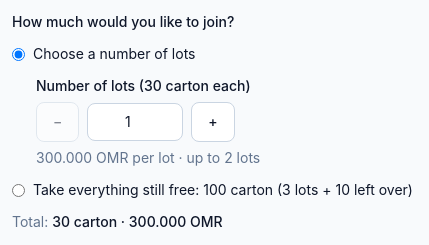
Test: LotPicker stepper › snaps a typed 99 back into range with fewer
The image size is (429, 245).
Replace the text in the number field labelled "Number of lots (30 carton each)" with "99". click: (135, 122)
box: left=87, top=103, right=183, bottom=141
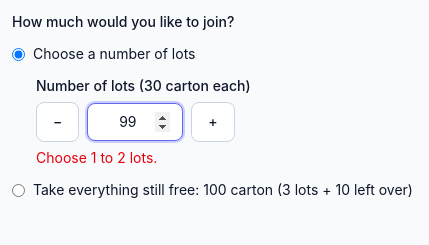
Click the button named "Fewer lots". click: (58, 122)
box: left=36, top=102, right=79, bottom=142
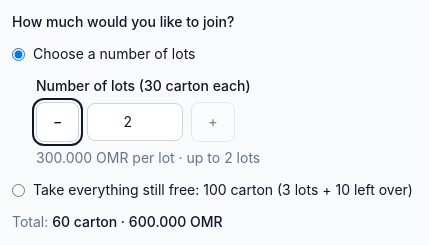
Expected: the number field labelled "Number of lots (30 carton each)" holds "2", left=87, top=103, right=183, bottom=141
